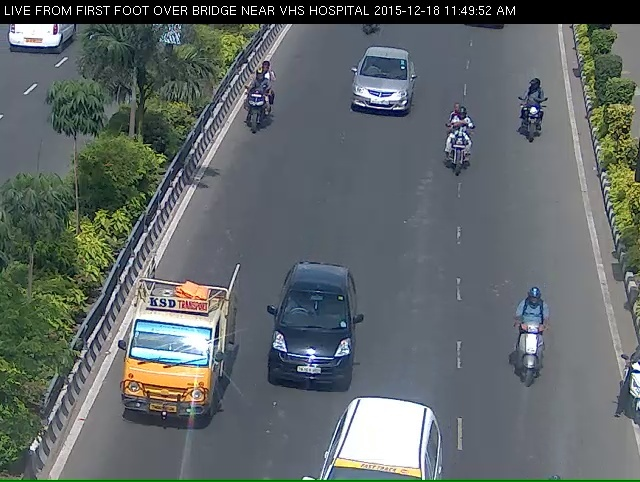Auto: (124, 272, 208, 438)
Car: (264, 277, 351, 403), (346, 51, 415, 126)
Person: (514, 300, 546, 408), (439, 112, 477, 185), (235, 66, 271, 140), (520, 82, 546, 148)
